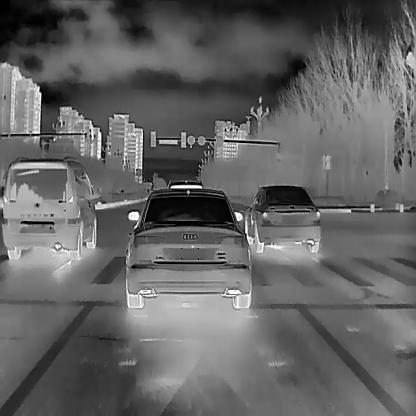car: (123, 188, 252, 309), (0, 154, 99, 260), (242, 183, 320, 252)
